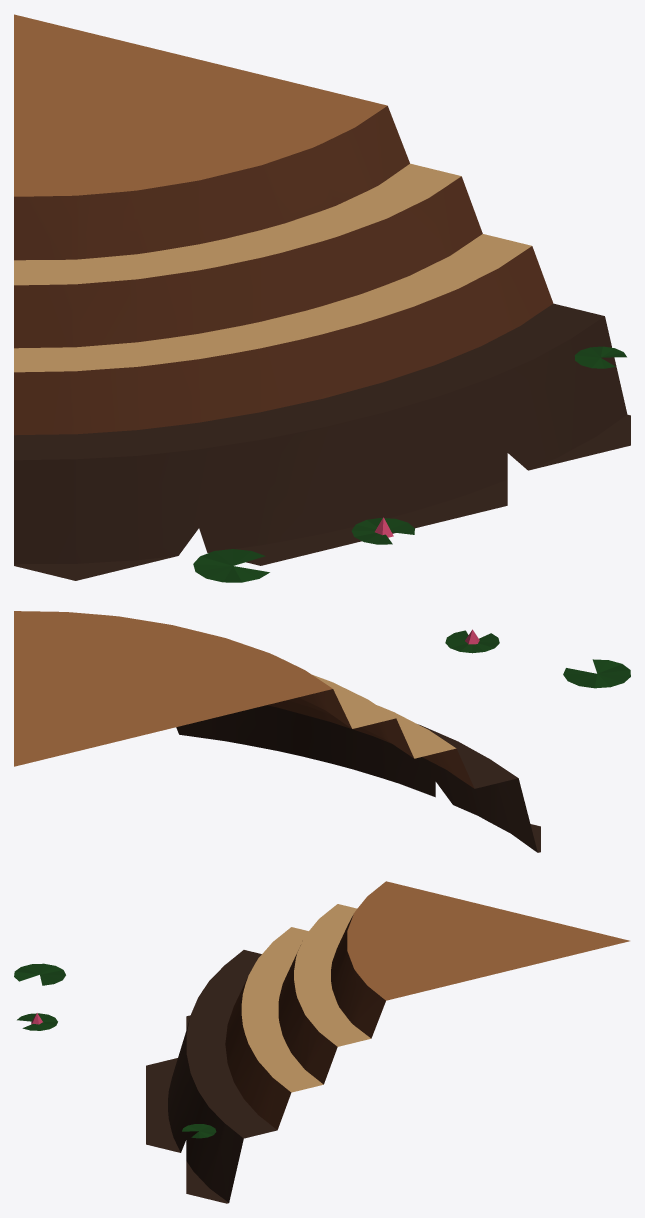
Rendered from MODULE_STEPWELL_LINE.fbx.
The picture shows the model from 3 angles, top to bottom: view 1: azimuth 30°, elevation 25°; view 2: azimuth 150°, elevation 25°; view 3: azimuth 270°, elevation 25°; orthographic projection. The views are drawn at different scales.
Visible parts, largest first — view 1: MODULE_STEPWELL_LINE__export, MODULE_STEPWELL_LINE_DECOR__export; view 2: MODULE_STEPWELL_LINE__export, MODULE_STEPWELL_LINE_DECOR__export; view 3: MODULE_STEPWELL_LINE__export, MODULE_STEPWELL_LINE_DECOR__export.
Part boxes in pixels (bbox=[...]): MODULE_STEPWELL_LINE__export: bbox=[14, 14, 630, 580]; MODULE_STEPWELL_LINE_DECOR__export: bbox=[193, 346, 626, 582]; MODULE_STEPWELL_LINE__export: bbox=[14, 611, 540, 852]; MODULE_STEPWELL_LINE_DECOR__export: bbox=[445, 629, 630, 688]; MODULE_STEPWELL_LINE__export: bbox=[146, 881, 629, 1203]; MODULE_STEPWELL_LINE_DECOR__export: bbox=[14, 963, 216, 1138].
Bounding box in the file's own units: 62.5 × 24.25 × 82.63.
